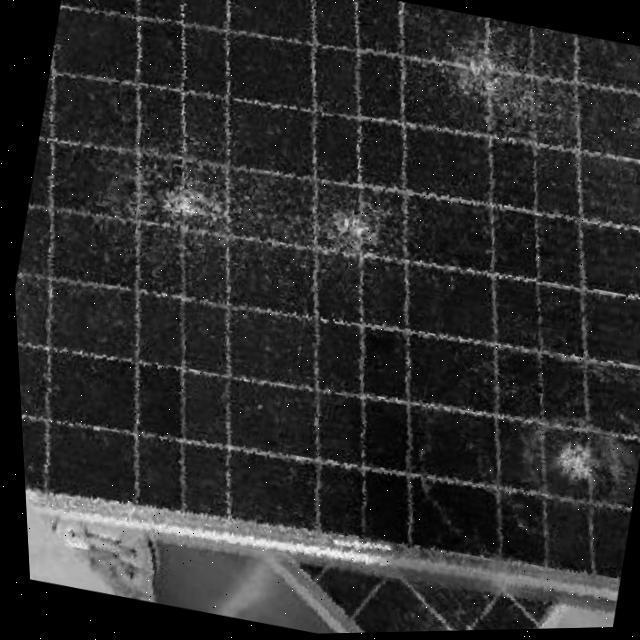Anomaly Solar Panel: (12, 0, 640, 603)
Structural Damage: (110, 139, 247, 257), (510, 406, 626, 510), (298, 175, 407, 284), (435, 34, 541, 126)
